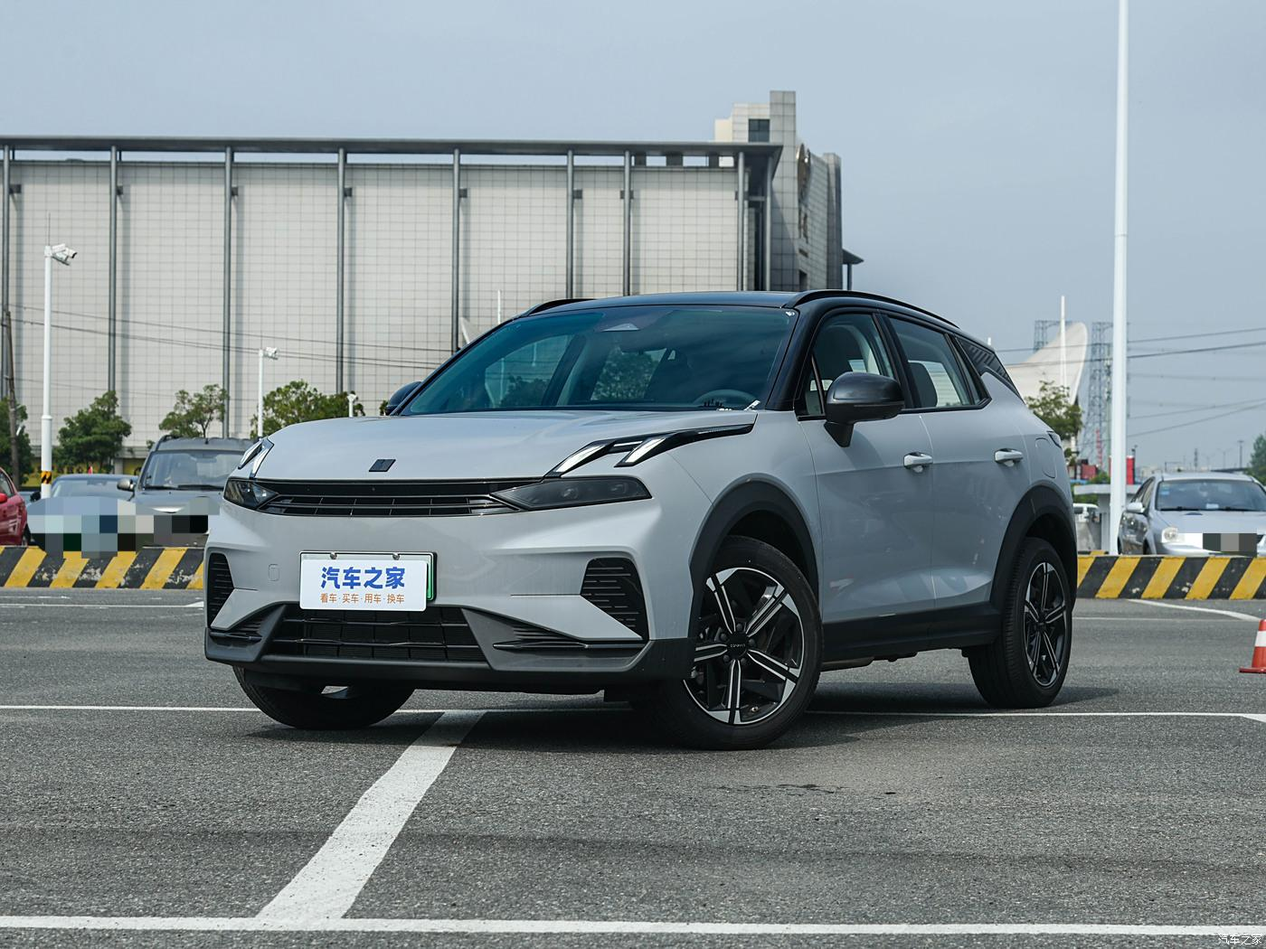LINK&CO: (368, 459, 396, 472)
